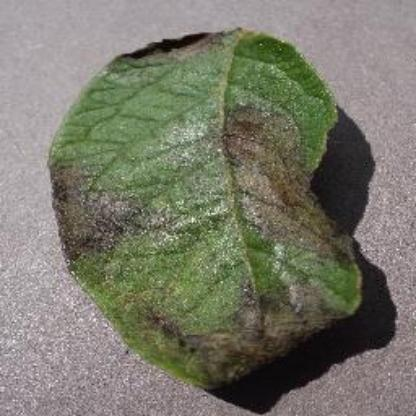Late-Blight: (46, 25, 376, 390)
